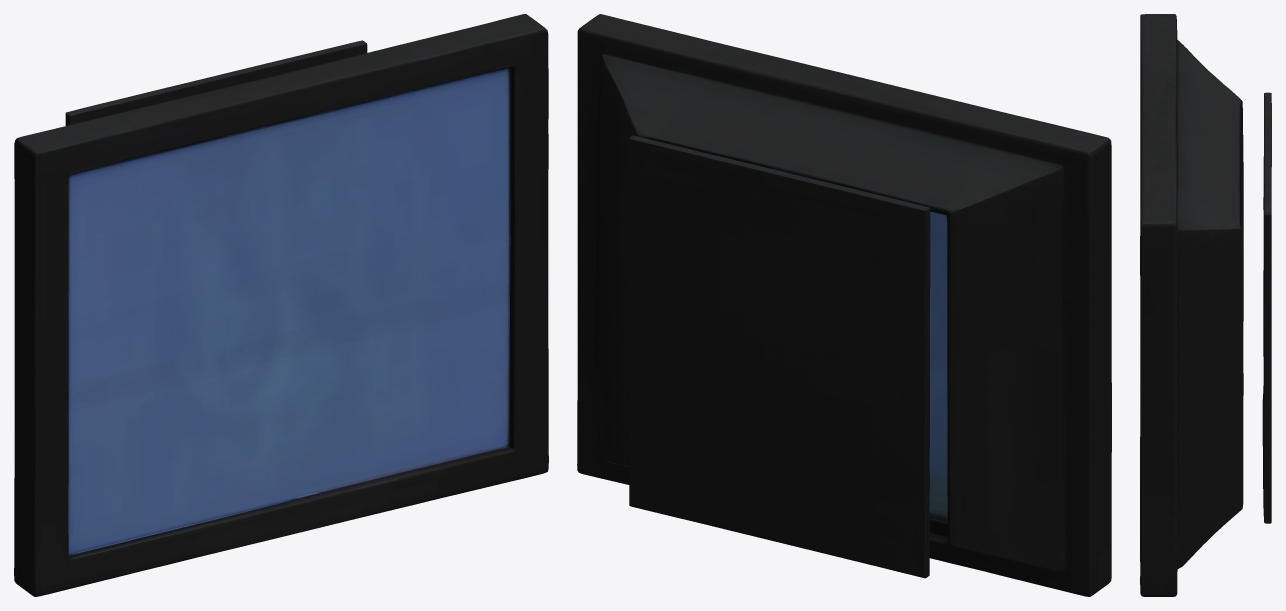
The model's file is tvalt.glb.
3 renders of one model, left to right at view 1: azimuth 30°, elevation 25°; view 2: azimuth 150°, elevation 25°; view 3: azimuth 270°, elevation 25°, orthographic. The views are drawn at different scales.
Parts seen in each view (by area): view 1: geometry_0; view 2: geometry_0; view 3: geometry_0.
Boxes of the visible parts, left/top/right/bottom form: geometry_0: left=14, top=14, right=548, bottom=596; geometry_0: left=577, top=14, right=1111, bottom=596; geometry_0: left=1140, top=14, right=1271, bottom=596.
Size of the model in its own units: 1 by 0.8301 by 0.2643.
Materials: 1 (1 with a texture image).
